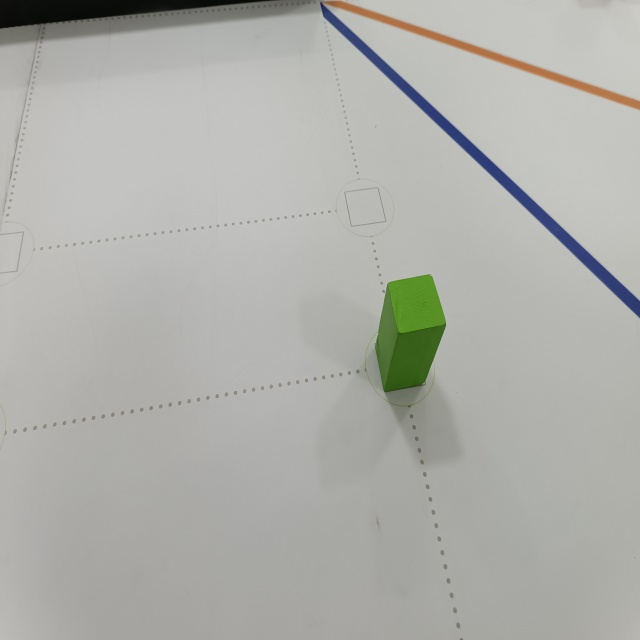blue line: (318, 0, 635, 323)
green rectangular prism: (370, 275, 450, 398)
orange line: (319, 0, 640, 109)
